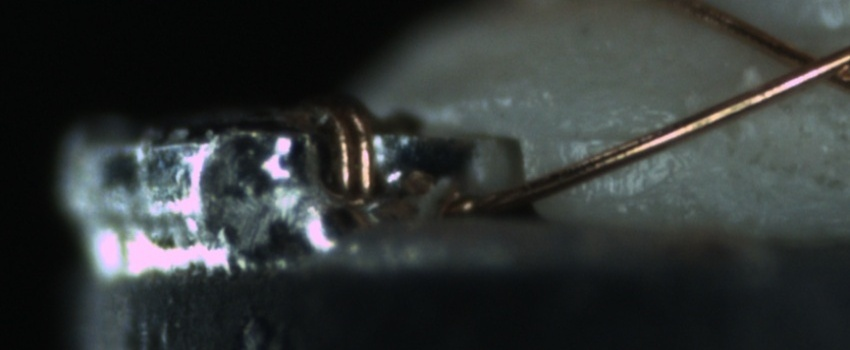CL: (767, 34, 849, 94)
DL: (556, 108, 654, 172)
TE: (323, 88, 378, 202)
